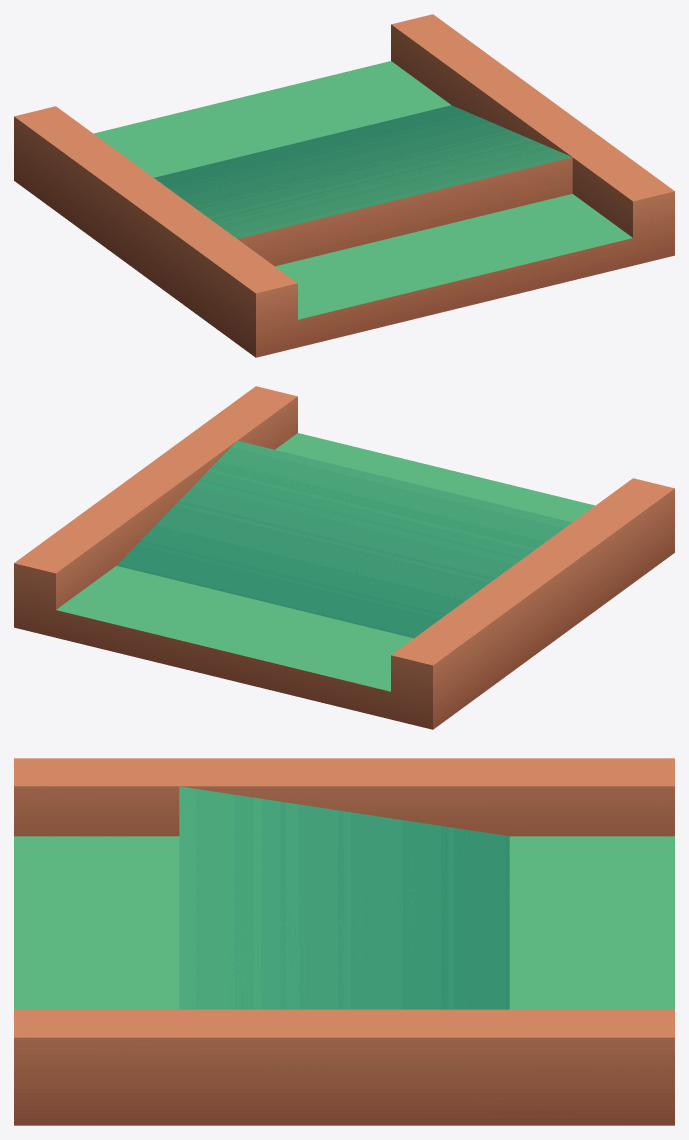
Rendered from ramp-sharp.glb.
3 renders of one model, top to bottom at view 1: azimuth 30°, elevation 25°; view 2: azimuth 150°, elevation 25°; view 3: azimuth 270°, elevation 25°, orthographic. The views are drawn at different scales.
Parts seen in each view (by area): view 1: ramp-sharp; view 2: ramp-sharp; view 3: ramp-sharp.
Part boxes in pixels (<box>): ramp-sharp: <box>14,14,674,357</box>; ramp-sharp: <box>14,386,674,729</box>; ramp-sharp: <box>14,758,674,1125</box>.
Size of the model in its own units: 0.9999 by 0.1467 by 0.9999.
1 material, 1 textured.
